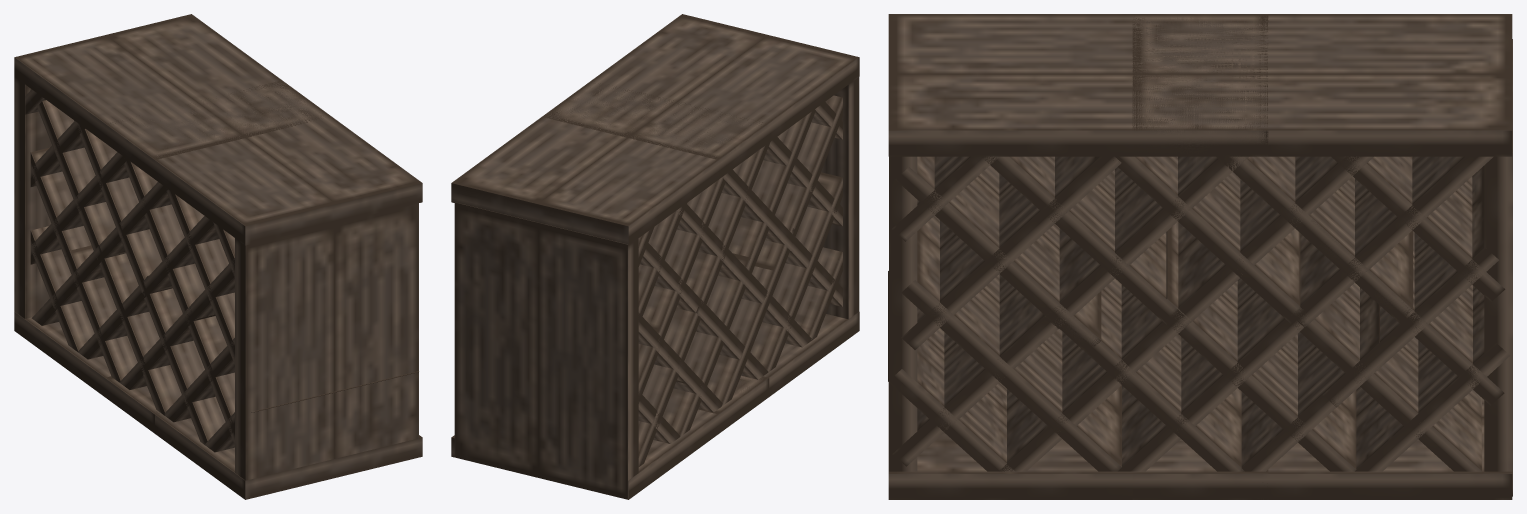
File: wineCellar 1.fbx
The picture shows the model from 3 angles, left to right: view 1: azimuth 30°, elevation 25°; view 2: azimuth 150°, elevation 25°; view 3: azimuth 270°, elevation 25°; orthographic projection. The views are drawn at different scales.
Visible parts, largest first — view 1: polySurface54; view 2: polySurface54; view 3: polySurface54.
Part boxes in pixels (x1,y1,x2,y2): polySurface54: (14, 14, 422, 499); polySurface54: (451, 14, 859, 499); polySurface54: (888, 14, 1512, 499).
Bounding box in the file's own units: 276 × 407 × 625.
